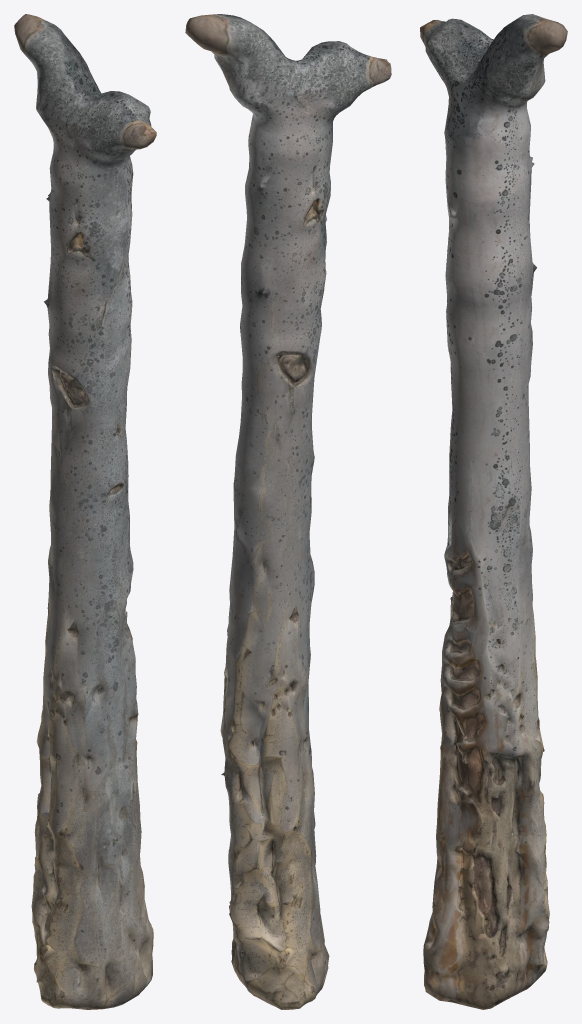
Rendered from dead_quiver_trunk.glb.
3 views of the same model, side by side, from view 1: azimuth 90°, elevation 25°; view 2: azimuth 150°, elevation 25°; view 3: azimuth 270°, elevation 25° (orthographic). The views are drawn at different scales.
Parts seen in each view (by area): view 1: dead_quiver_trunk_LOD0; view 2: dead_quiver_trunk_LOD0; view 3: dead_quiver_trunk_LOD0.
Part boxes in pixels (x1,y1,x2,y2): dead_quiver_trunk_LOD0: (14,14,156,1009); dead_quiver_trunk_LOD0: (185,14,391,1009); dead_quiver_trunk_LOD0: (420,14,567,1009).
Size of the model in its own units: 0.3065 by 1.99 by 0.2681.
1 material, 1 textured.
